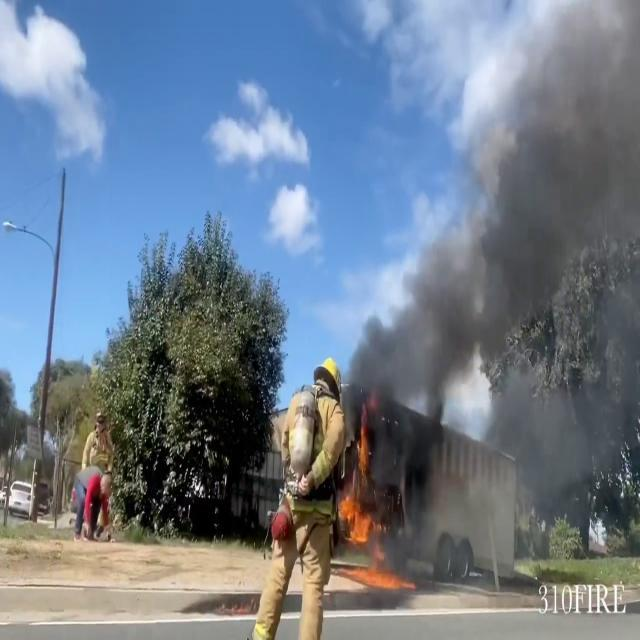Fire: (338, 417, 382, 555)
Smoke: (352, 0, 640, 445)
